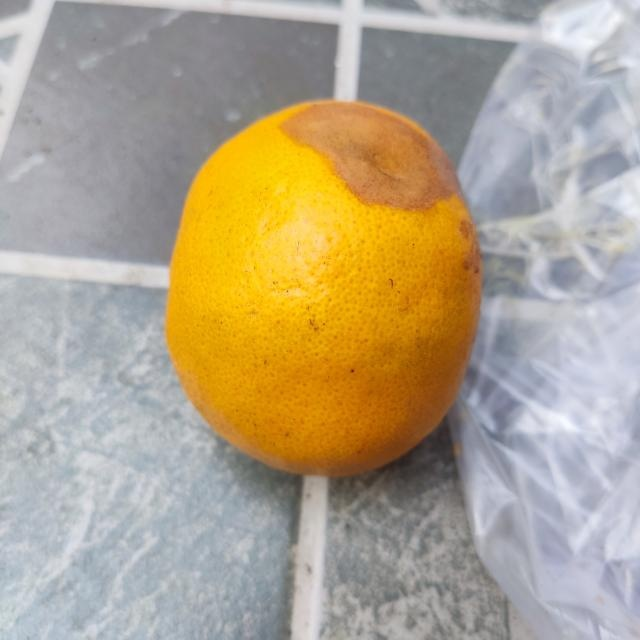agrume: (160, 96, 485, 479)
